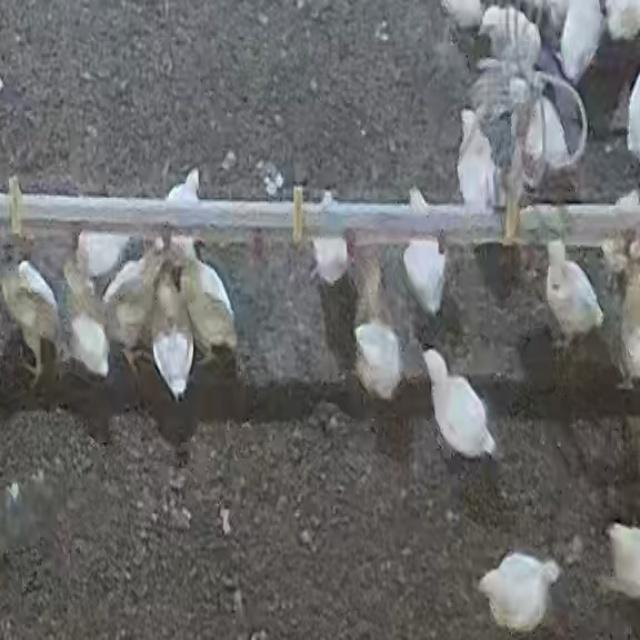chicken: (420, 345, 498, 463), (176, 236, 242, 372), (349, 248, 403, 412), (476, 542, 564, 636), (145, 253, 199, 404), (1, 258, 61, 385), (102, 243, 160, 368), (542, 236, 606, 342), (61, 255, 112, 382), (402, 184, 449, 317), (306, 183, 352, 288), (456, 106, 499, 211)
